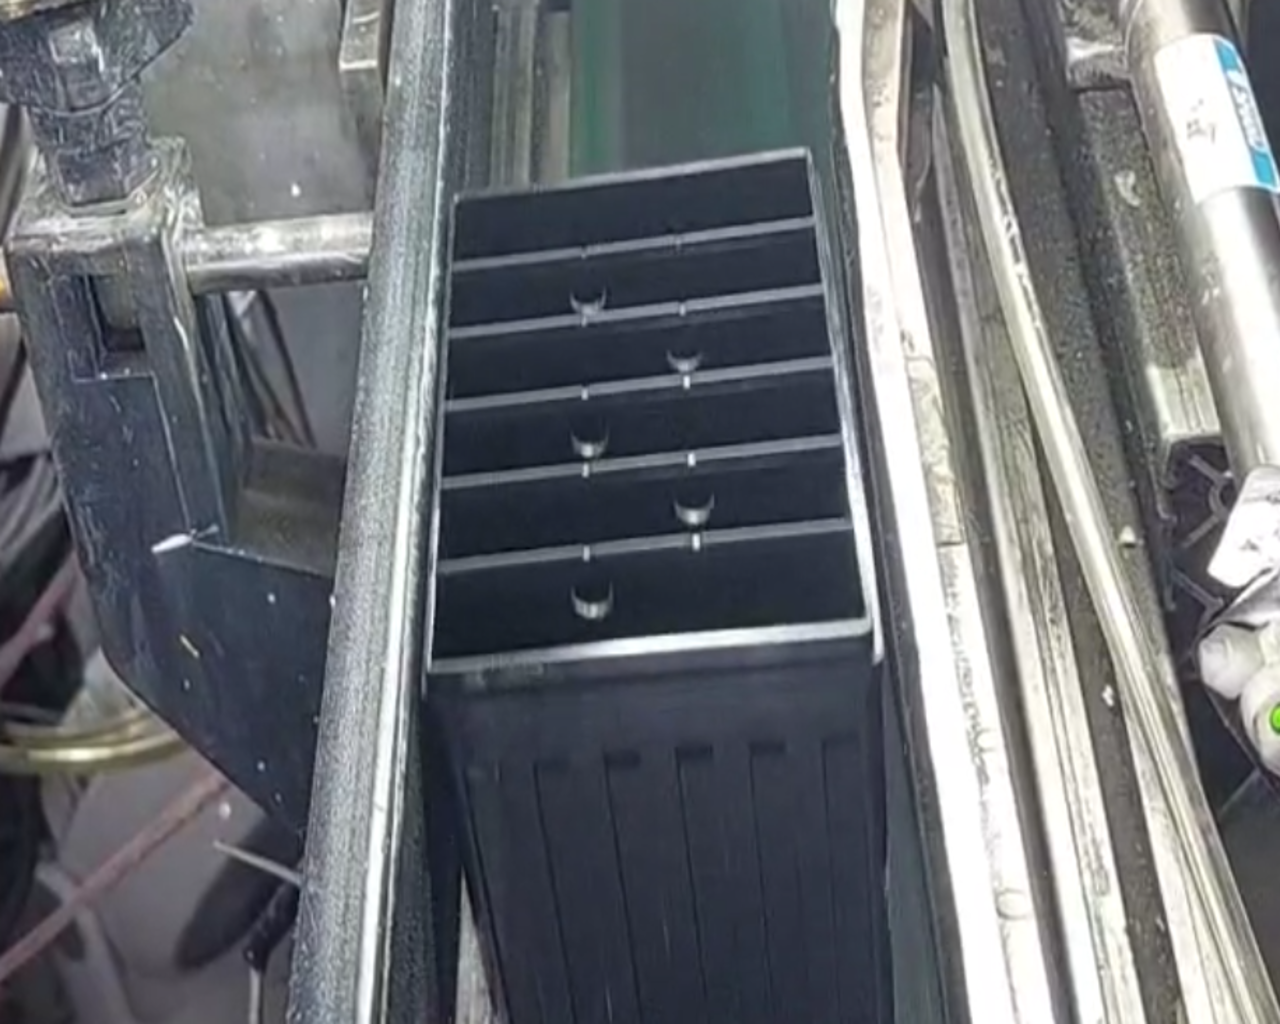box: (399, 137, 897, 717)
round: (554, 553, 629, 630), (553, 404, 624, 464), (554, 259, 621, 321), (659, 471, 727, 531), (650, 323, 712, 378)
